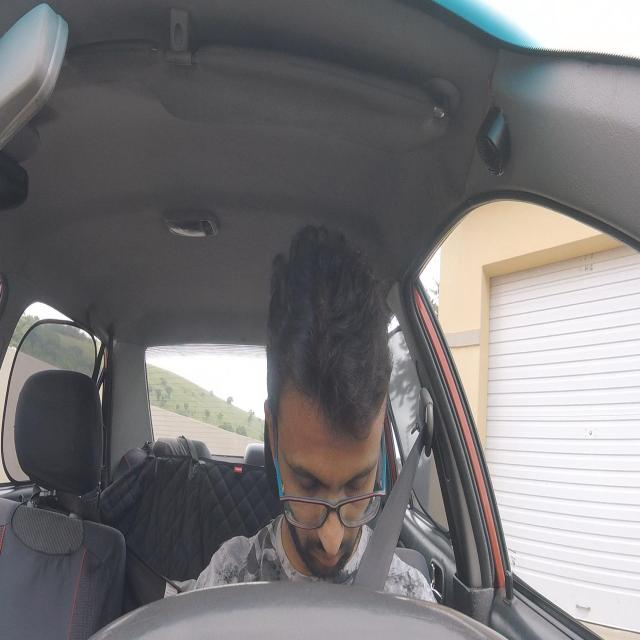close: (340, 461, 377, 505), (291, 465, 324, 510)
